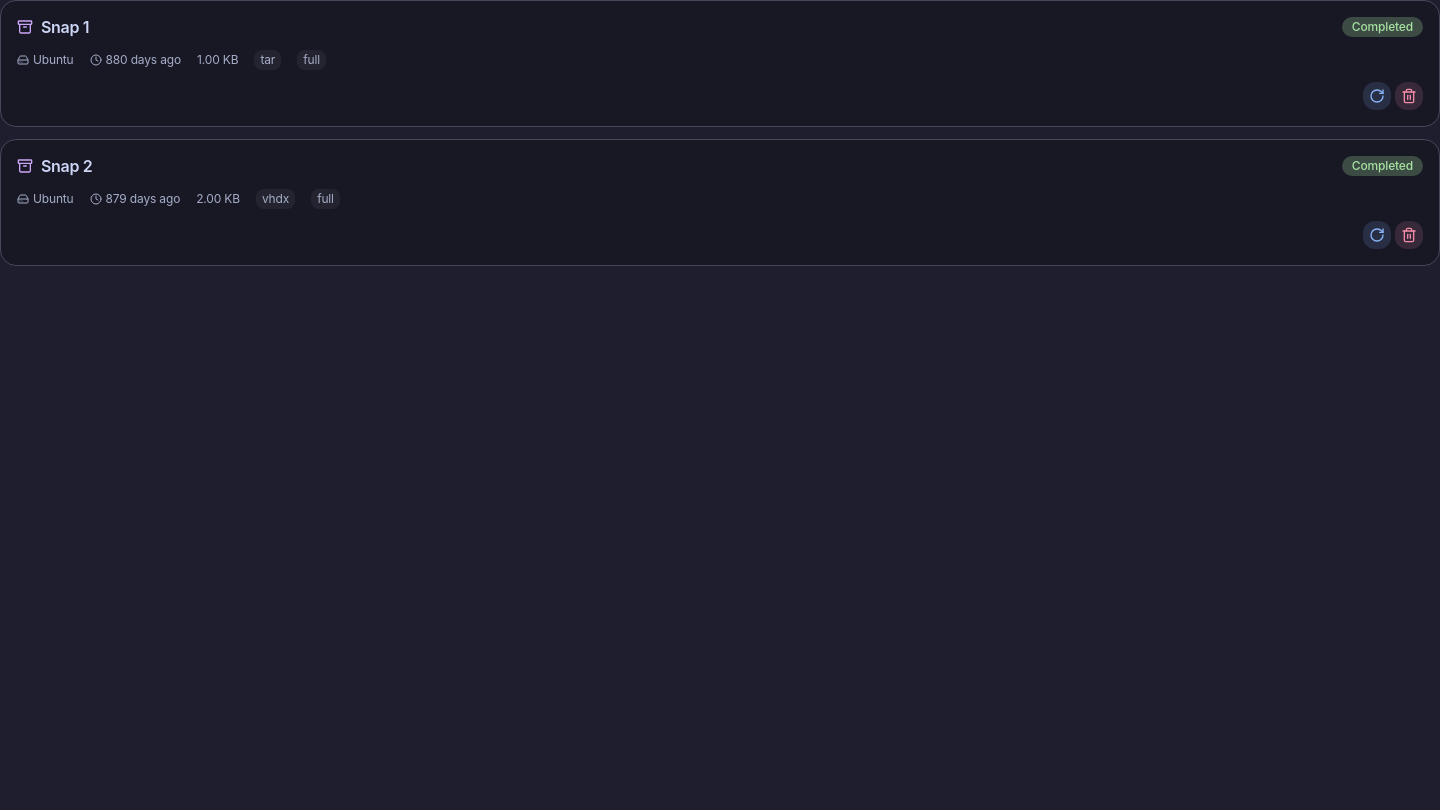
Test case: SnapshotList › closes delete dialog on cancel
The width and height of the screenshot is (1440, 810).
Click the 1st button named "Delete snapshot" at (1409, 96), box [1395,82,1423,110]
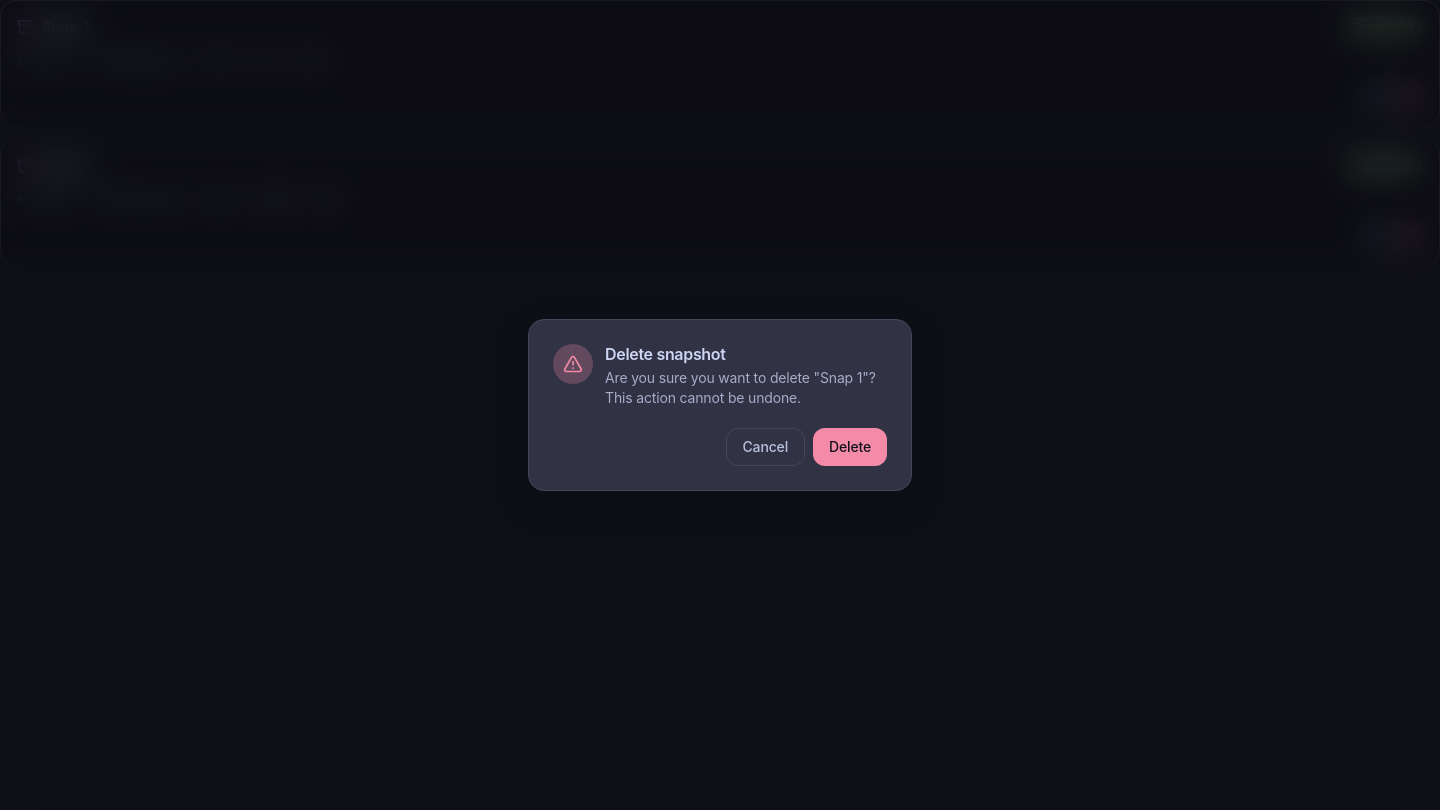
Now the dialog is shown, box [528,319,912,491]
// Click cancel button (first button in dialog)
Click the button "Cancel" at (765, 447), box [726,428,805,466]
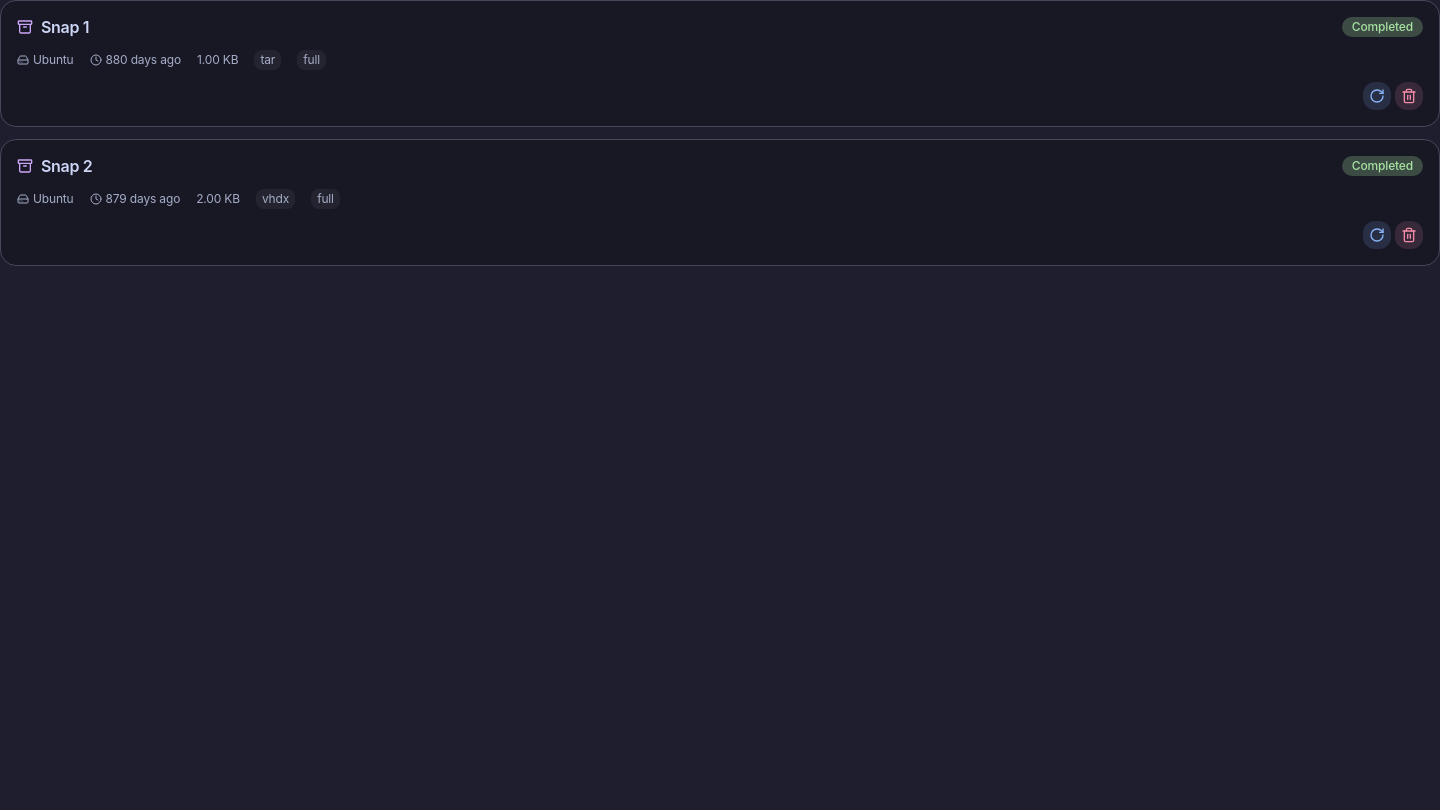
Now the dialog is gone
